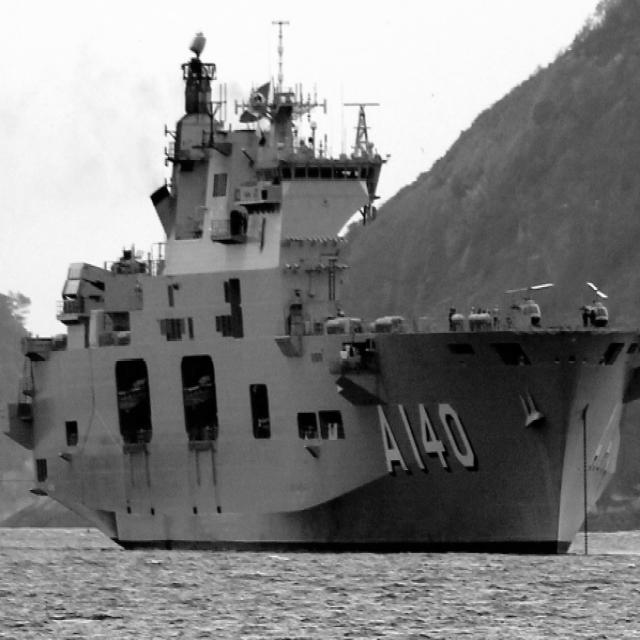Portanaves: (9, 5, 640, 560)
